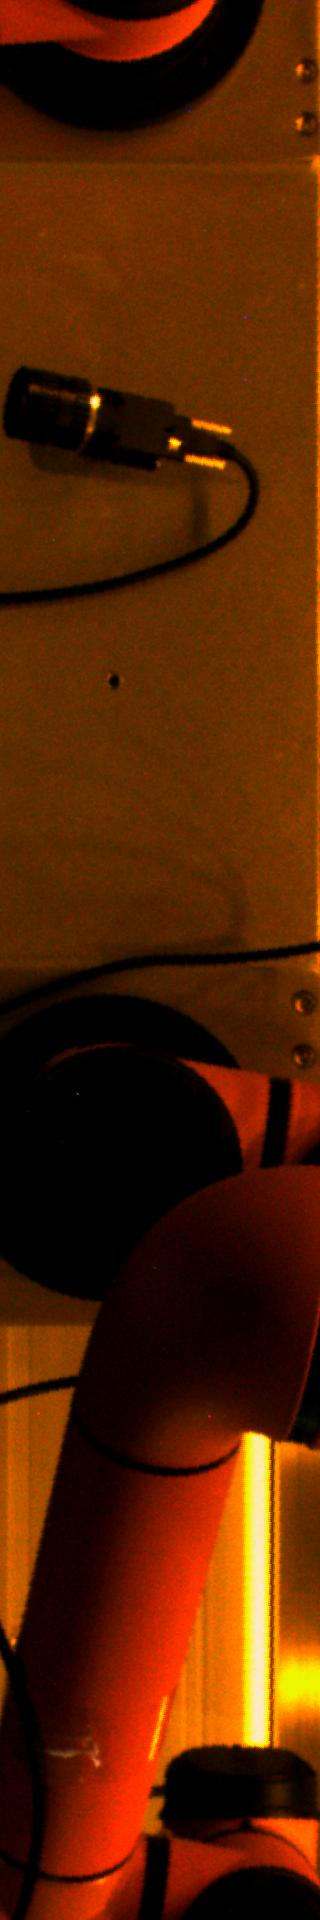keyPoint_2: (98, 667, 128, 697)
